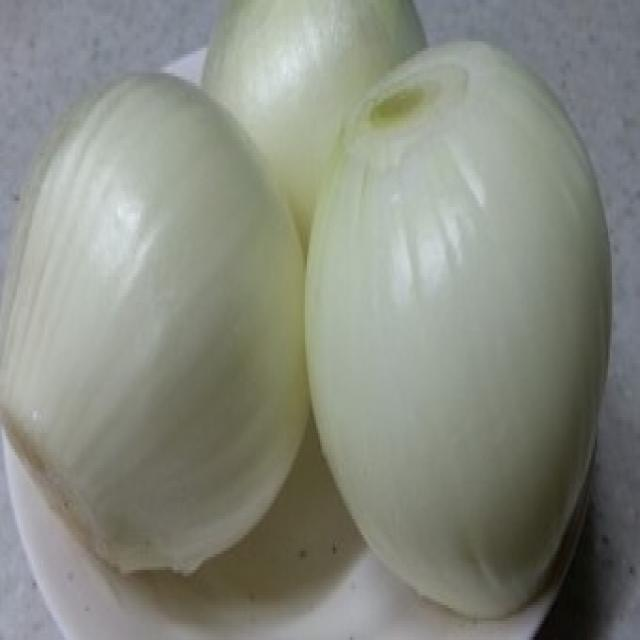onion: (302, 24, 630, 618), (3, 63, 305, 573)
